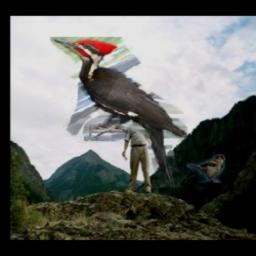Sparrow: (186, 155, 225, 184)
Woodpecker: (50, 37, 187, 188)
